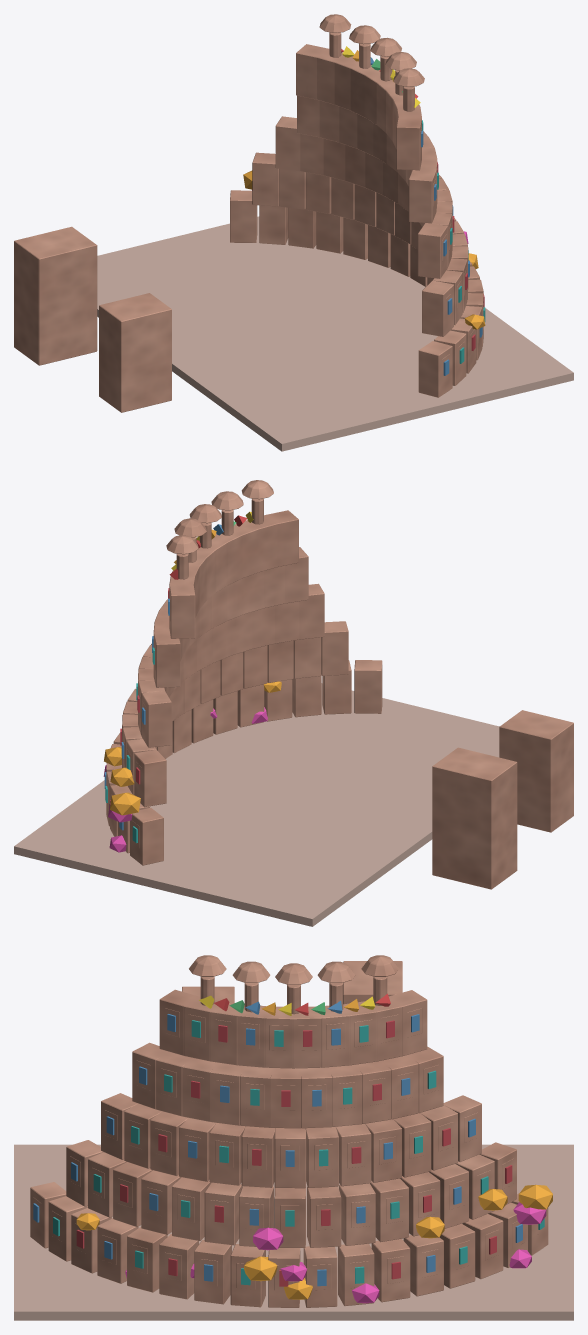
The model's file is jaipur_hawa_mahal.glb.
3 renders of one model, top to bottom at view 1: azimuth 30°, elevation 25°; view 2: azimuth 150°, elevation 25°; view 3: azimuth 270°, elevation 25°, orthographic. The views are drawn at different scales.
Parts seen in each view (by area): view 1: HawaMahalFacade, Plaza, Shutters, Bougainvillea; view 2: HawaMahalFacade, Plaza, Bougainvillea, Shutters; view 3: HawaMahalFacade, Plaza, Shutters, Bougainvillea, Bunting.
Part boxes in pixels (x1=…): HawaMahalFacade: x1=14, y1=14, x2=483, y2=412; Plaza: x1=97, y1=216, x2=573, y2=451; Shutters: x1=421, y1=120, x2=485, y2=375; Bougainvillea: x1=243, y1=170, x2=485, y2=329; HawaMahalFacade: x1=106, y1=480, x2=573, y2=889; Plaza: x1=14, y1=683, x2=499, y2=926; Bougainvillea: x1=103, y1=681, x2=281, y2=852; Shutters: x1=104, y1=588, x2=169, y2=843; HawaMahalFacade: x1=30, y1=955, x2=548, y2=1307; Plaza: x1=14, y1=1144, x2=573, y2=1320; Shutters: x1=33, y1=1014, x2=544, y2=1286; Bougainvillea: x1=76, y1=1184, x2=552, y2=1303; Bunting: x1=199, y1=993, x2=390, y2=1015.
Bounding box in the file's own units: 16.53 × 10.62 × 17.
Materials: 12 (1 with a texture image).
